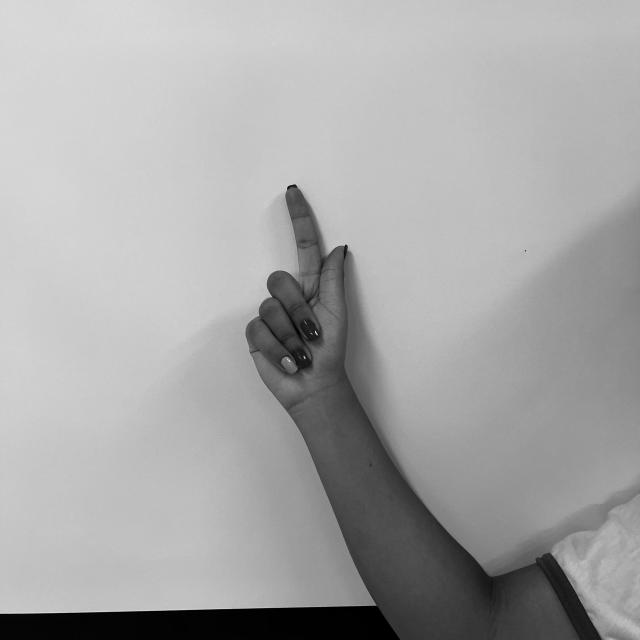Letra G: (241, 175, 358, 408)
